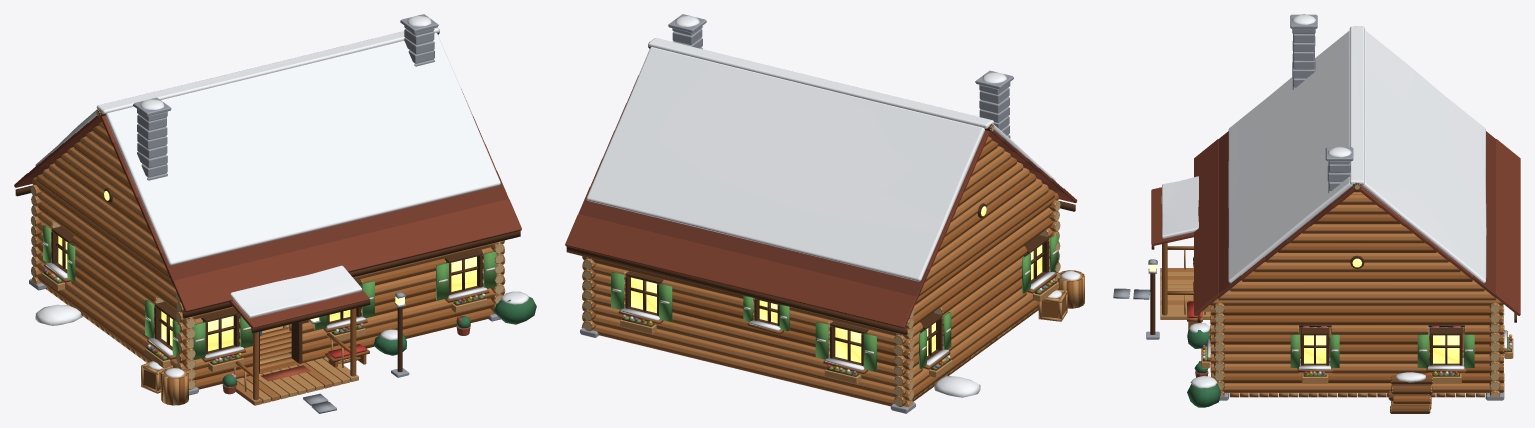
Rendered from house_3.glb.
The picture shows the model from 3 angles, left to right: view 1: azimuth 30°, elevation 25°; view 2: azimuth 150°, elevation 25°; view 3: azimuth 270°, elevation 25°; orthographic projection. The views are drawn at different scales.
Parts seen in each view (by area): view 1: roof, walls, exterior, floor; view 2: roof, walls, exterior; view 3: roof, walls, exterior, floor.
Boxes of the visible parts, x1,y1,x2,y2 form: roof: [14, 14, 521, 333]; walls: [29, 177, 505, 395]; exterior: [35, 291, 536, 413]; floor: [46, 287, 358, 405]; roof: [565, 14, 1077, 334]; walls: [580, 192, 1060, 413]; exterior: [934, 270, 1084, 397]; roof: [1151, 14, 1520, 322]; walls: [1201, 190, 1513, 400]; exterior: [1113, 243, 1432, 413]; floor: [1160, 268, 1484, 397].
Bounding box in the file's own units: 9.54 × 6.12 × 9.17.
